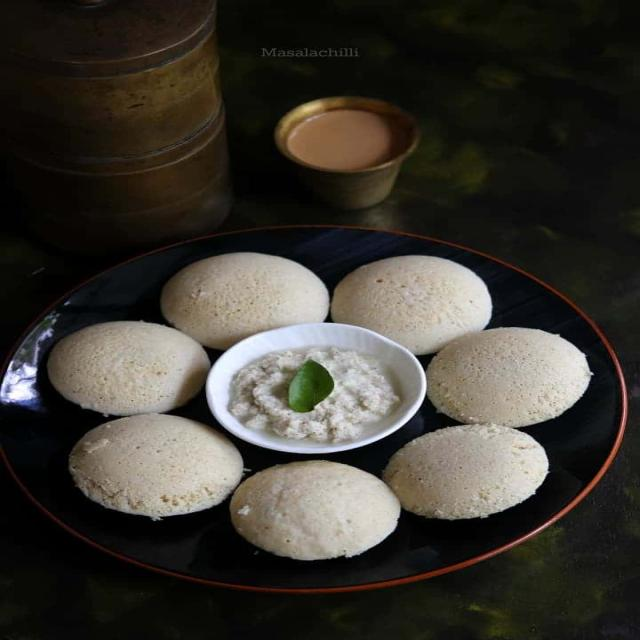chutney: (220, 330, 416, 443)
idli: (52, 413, 248, 524), (418, 322, 602, 437), (218, 454, 412, 562), (324, 243, 500, 361), (150, 245, 343, 347), (41, 316, 225, 419), (383, 425, 545, 521)
